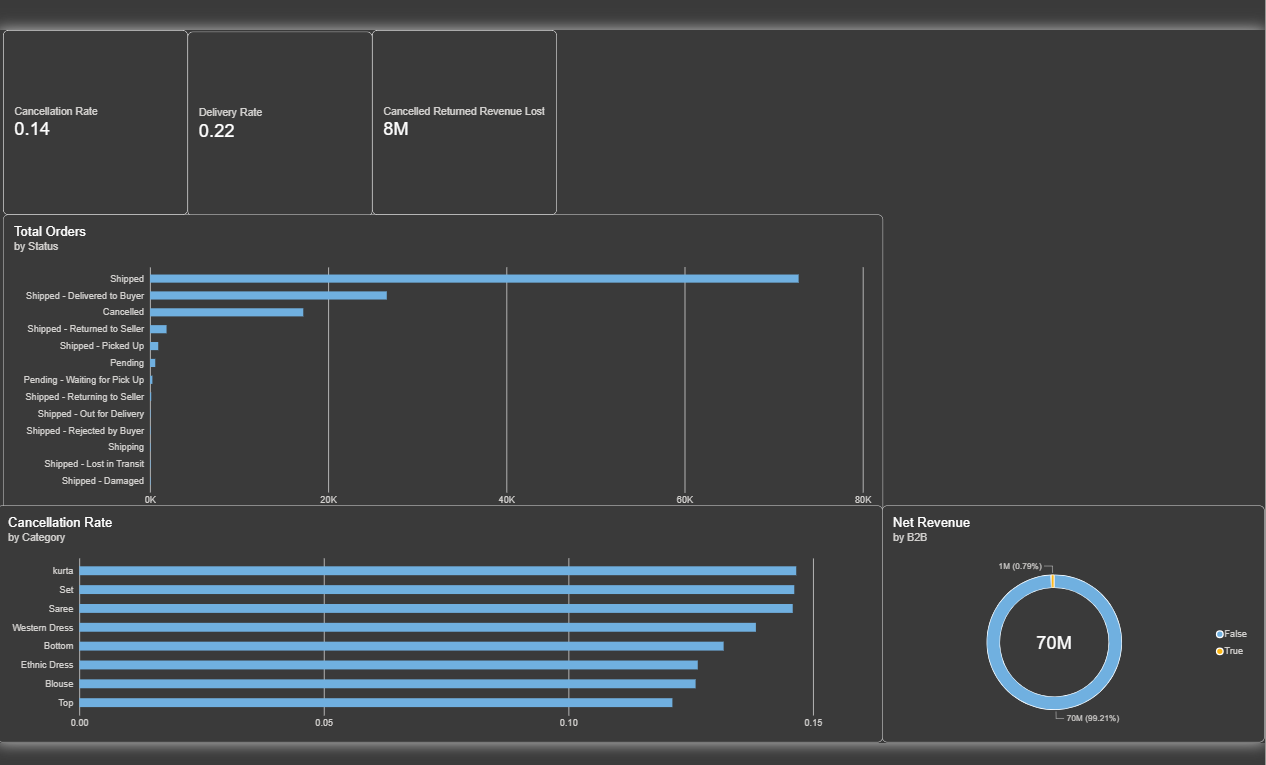

This screenshot's page, from the dashboard's own definition file:
{"tool":"powerbi","page":{"name":"Fulfillment & Cancellations","canvas":[1920,1080],"ordinal":3},"visuals":[{"type":"cardVisual","fields":{"Data":["_Measures.Cancellation Rate"]},"box":[10,0,280,280],"z":0},{"type":"cardVisual","fields":{"Data":["_Measures.Delivery Rate"]},"box":[288.2,2.9,280,280],"z":1000},{"type":"cardVisual","fields":{"Data":["_Measures.Cancelled Returned Revenue Lost"]},"box":[567.6,0,280,280],"z":2000},{"type":"clusteredBarChart","fields":{"Category":["Amazon_Sales_Fact_Cleaned (1).Status"],"Y":["_Measures.Total Orders"]},"box":[8.8,279.4,1332.4,461.8],"z":3000},{"type":"clusteredBarChart","fields":{"Category":["Amazon_Sales_Fact_Cleaned (1).Category"],"Y":["_Measures.Cancellation Rate"]},"box":[0,720.6,1341.2,358.8],"z":4000},{"type":"donutChart","fields":{"Category":["Amazon_Sales_Fact_Cleaned (1).B2B"],"Y":["_Measures.Net Revenue"]},"box":[1341.2,720.6,579.4,358.8],"z":5000}]}

Visuals, with their boxes on the page's 1920x1080 design canvas (x1, y1, x2, y2). These are canvas units, not pixel positions in the 1266x765 screenshot, which may show the page scaled, cropped or inside an application window:
cardVisual - _Measures.Cancellation Rate: region(10, 0, 290, 280)
cardVisual - _Measures.Delivery Rate: region(288, 3, 568, 283)
cardVisual - _Measures.Cancelled Returned Revenue Lost: region(568, 0, 848, 280)
clusteredBarChart - Amazon_Sales_Fact_Cleaned (1).Status x _Measures.Total Orders: region(9, 279, 1341, 741)
clusteredBarChart - Amazon_Sales_Fact_Cleaned (1).Category x _Measures.Cancellation Rate: region(0, 721, 1341, 1079)
donutChart - Amazon_Sales_Fact_Cleaned (1).B2B x _Measures.Net Revenue: region(1341, 721, 1921, 1079)
